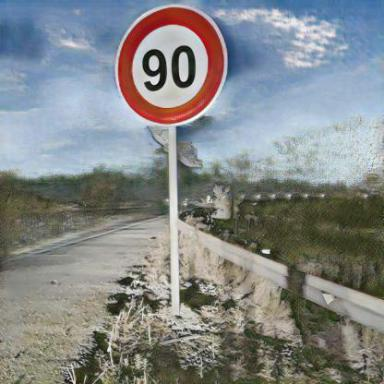Speed_limit_90: (116, 11, 225, 121)
